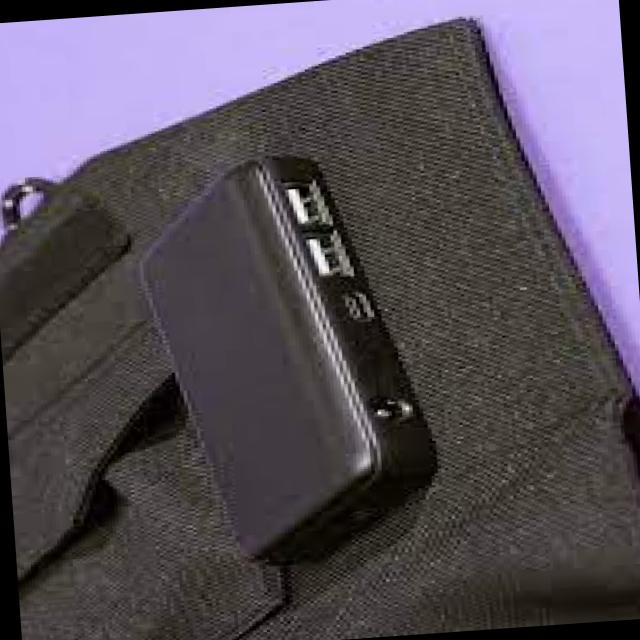portable-charger: (130, 144, 448, 570)
